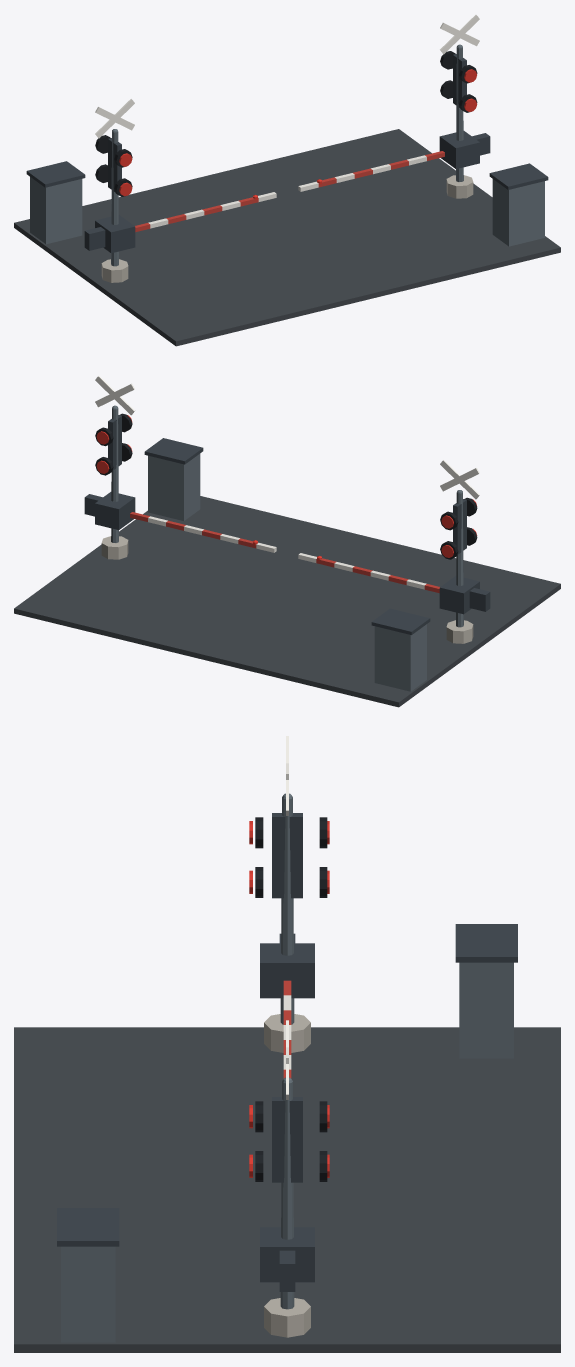
Rendered from RAIL_07.obj.
The picture shows the model from 3 angles, top to bottom: view 1: azimuth 30°, elevation 25°; view 2: azimuth 150°, elevation 25°; view 3: azimuth 270°, elevation 25°; orthographic projection. The views are drawn at different scales.
Parts seen in each view (by area): view 1: road_base, cabinet, warning_lights, boom_housing, boom_A, boom_B, mast, crossbuck, mast_base; view 2: road_base, cabinet, warning_lights, boom_housing, boom_A, boom_B, mast, crossbuck, mast_base; view 3: road_base, cabinet, warning_lights, boom_housing, mast, mast_base, boom_A.
Part boxes in pixels (x1,y1,x2,y2): road_base: (14, 129, 560, 346); cabinet: (26, 161, 548, 246); warning_lights: (95, 51, 477, 196); boom_housing: (95, 131, 479, 253); boom_A: (84, 192, 276, 250); boom_B: (298, 133, 490, 191); mast: (111, 44, 463, 266); crossbuck: (95, 15, 479, 138); mast_base: (101, 175, 473, 282); road_base: (14, 496, 560, 707); cabinet: (144, 438, 430, 691); warning_lights: (95, 413, 477, 559); boom_housing: (95, 492, 479, 614); boom_A: (298, 553, 490, 611); boom_B: (84, 494, 276, 552); mast: (111, 405, 463, 627); crossbuck: (95, 376, 479, 499); mast_base: (101, 536, 473, 643); road_base: (14, 1027, 560, 1352); cabinet: (57, 924, 517, 1342); warning_lights: (249, 813, 329, 1182); boom_housing: (260, 943, 314, 1282); mast: (280, 793, 294, 1309); mast_base: (264, 1014, 310, 1337); boom_A: (279, 933, 295, 1078).
Size of the model in its own units: 10 by 4.27 by 7.
